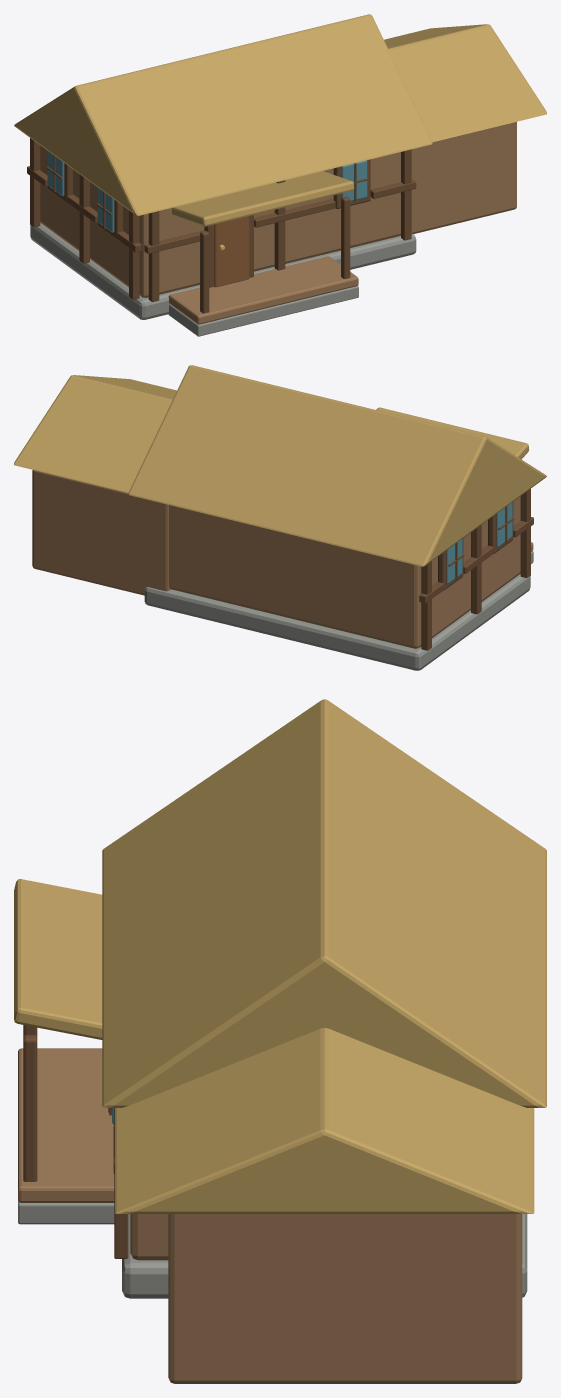
Rendered from temperate-farmstead-1.glb.
3 renders of one model, top to bottom at view 1: azimuth 30°, elevation 25°; view 2: azimuth 150°, elevation 25°; view 3: azimuth 270°, elevation 25°, orthographic. The views are drawn at different scales.
Visible parts, largest first — view 1: Golden thatch, Aged oak, Dark beams, Foundation stone, Door oak, Blue glass; view 2: Golden thatch, Aged oak, Foundation stone, Dark beams, Blue glass; view 3: Golden thatch, Aged oak, Foundation stone, Dark beams.
Part boxes in pixels (<box>): Golden thatch: <box>14,14,546,226</box>; Aged oak: <box>40,122,516,324</box>; Dark beams: <box>27,138,416,313</box>; Foundation stone: <box>30,223,416,336</box>; Door oak: <box>214,216,249,287</box>; Blue glass: <box>48,151,367,232</box>; Golden thatch: <box>14,365,546,566</box>; Aged oak: <box>32,470,533,648</box>; Foundation stone: <box>144,551,533,670</box>; Dark beams: <box>419,489,533,650</box>; Blue glass: <box>446,502,512,583</box>; Golden thatch: <box>14,699,546,1213</box>; Aged oak: <box>18,1048,522,1383</box>; Foundation stone: <box>18,1200,527,1298</box>; Dark beams: <box>23,1025,128,1258</box>.
Size of the model in its own units: 6.21 by 2.81 by 3.84.
